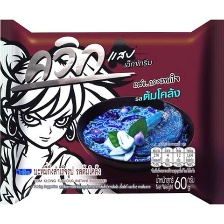snack: (0, 11, 224, 210)
